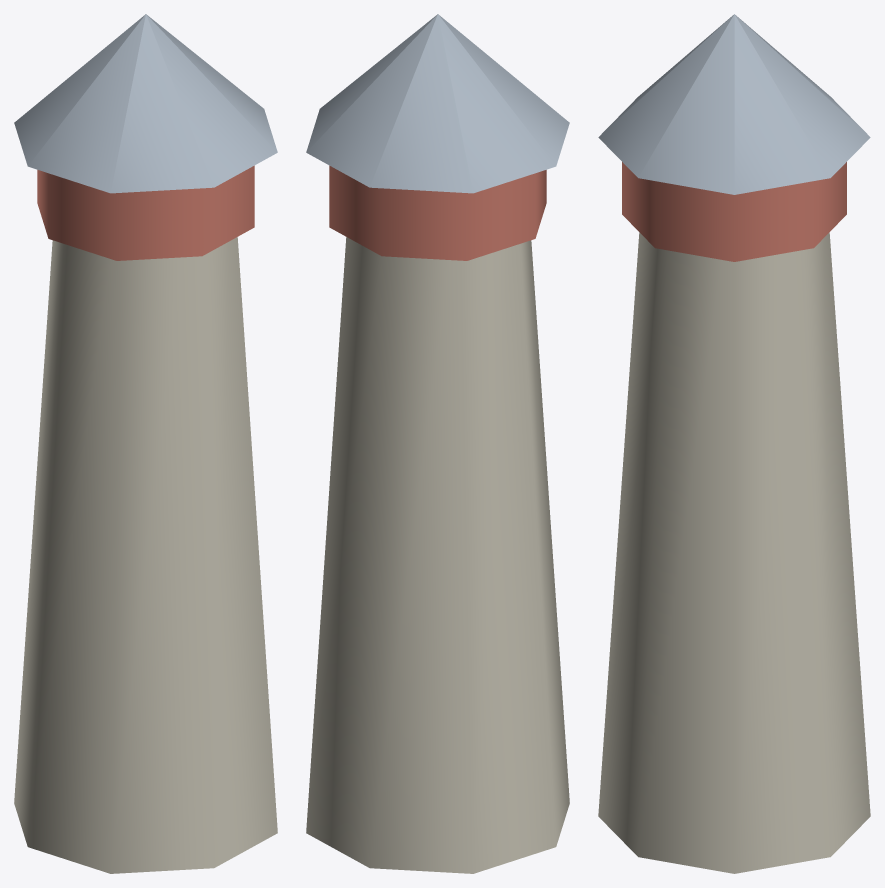
3 views of the same model, side by side, from view 1: azimuth 30°, elevation 25°; view 2: azimuth 150°, elevation 25°; view 3: azimuth 270°, elevation 25° (orthographic).
Size of the model in its own units: 4 by 13 by 4.
